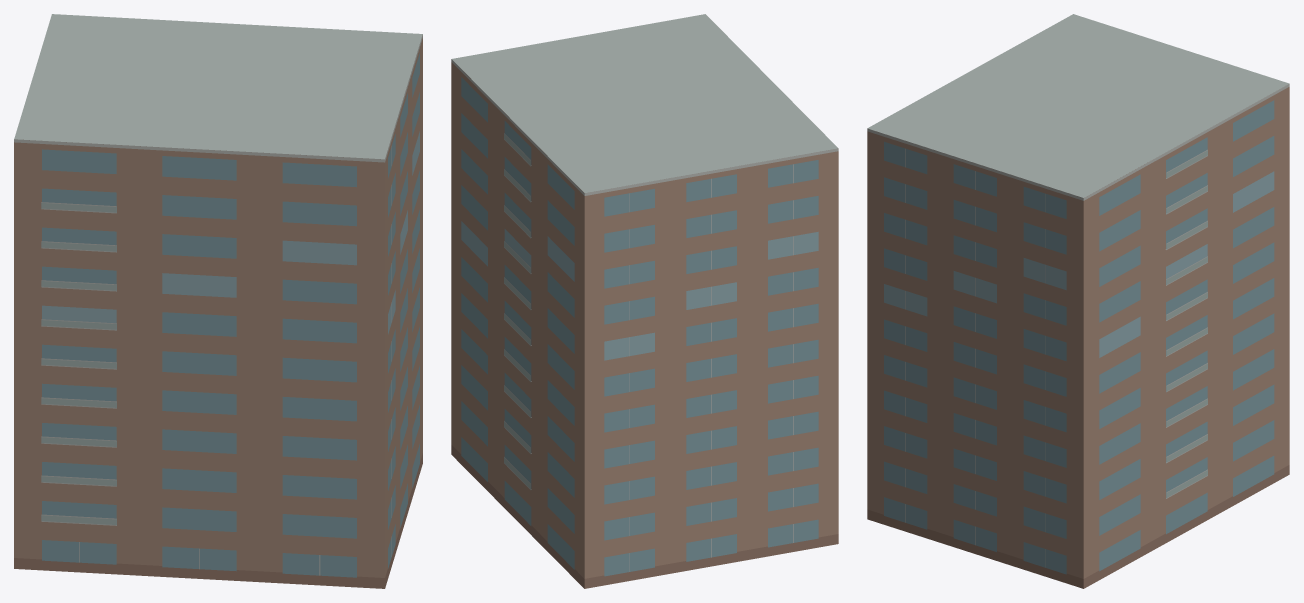
Rendered from residential-40d8003b-2122-4429-b9c8-df133a85ed4d.glb.
The picture shows the model from 3 angles, left to right: view 1: azimuth 30°, elevation 25°; view 2: azimuth 150°, elevation 25°; view 3: azimuth 270°, elevation 25°; orthographic projection. The views are drawn at different scales.
Parts seen in each view (by area): view 1: residential-40d8003b-2122-4429-b9c8-df133a85ed4d.tmp; view 2: residential-40d8003b-2122-4429-b9c8-df133a85ed4d.tmp; view 3: residential-40d8003b-2122-4429-b9c8-df133a85ed4d.tmp.
Part boxes in pixels (x1,y1,x2,y2): residential-40d8003b-2122-4429-b9c8-df133a85ed4d.tmp: [14, 14, 422, 588]; residential-40d8003b-2122-4429-b9c8-df133a85ed4d.tmp: [451, 14, 838, 588]; residential-40d8003b-2122-4429-b9c8-df133a85ed4d.tmp: [867, 14, 1289, 588].
Bounding box in the file's own units: 33.33 × 33 × 32.34.
